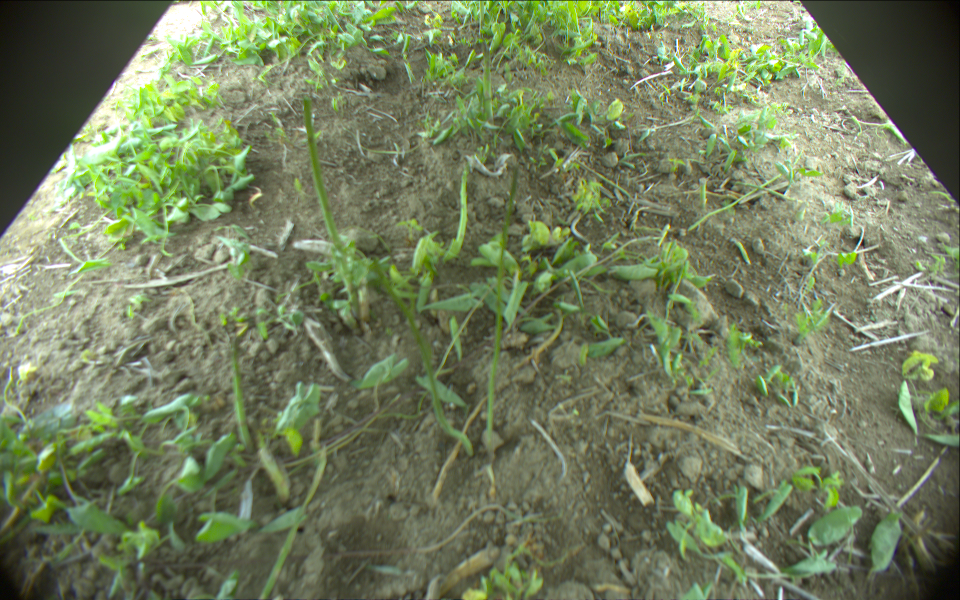aspa: (372, 261, 476, 458), (302, 96, 358, 316), (485, 167, 523, 457), (257, 451, 329, 600), (230, 333, 252, 448), (479, 39, 498, 129), (453, 169, 468, 247), (478, 1, 485, 33)
